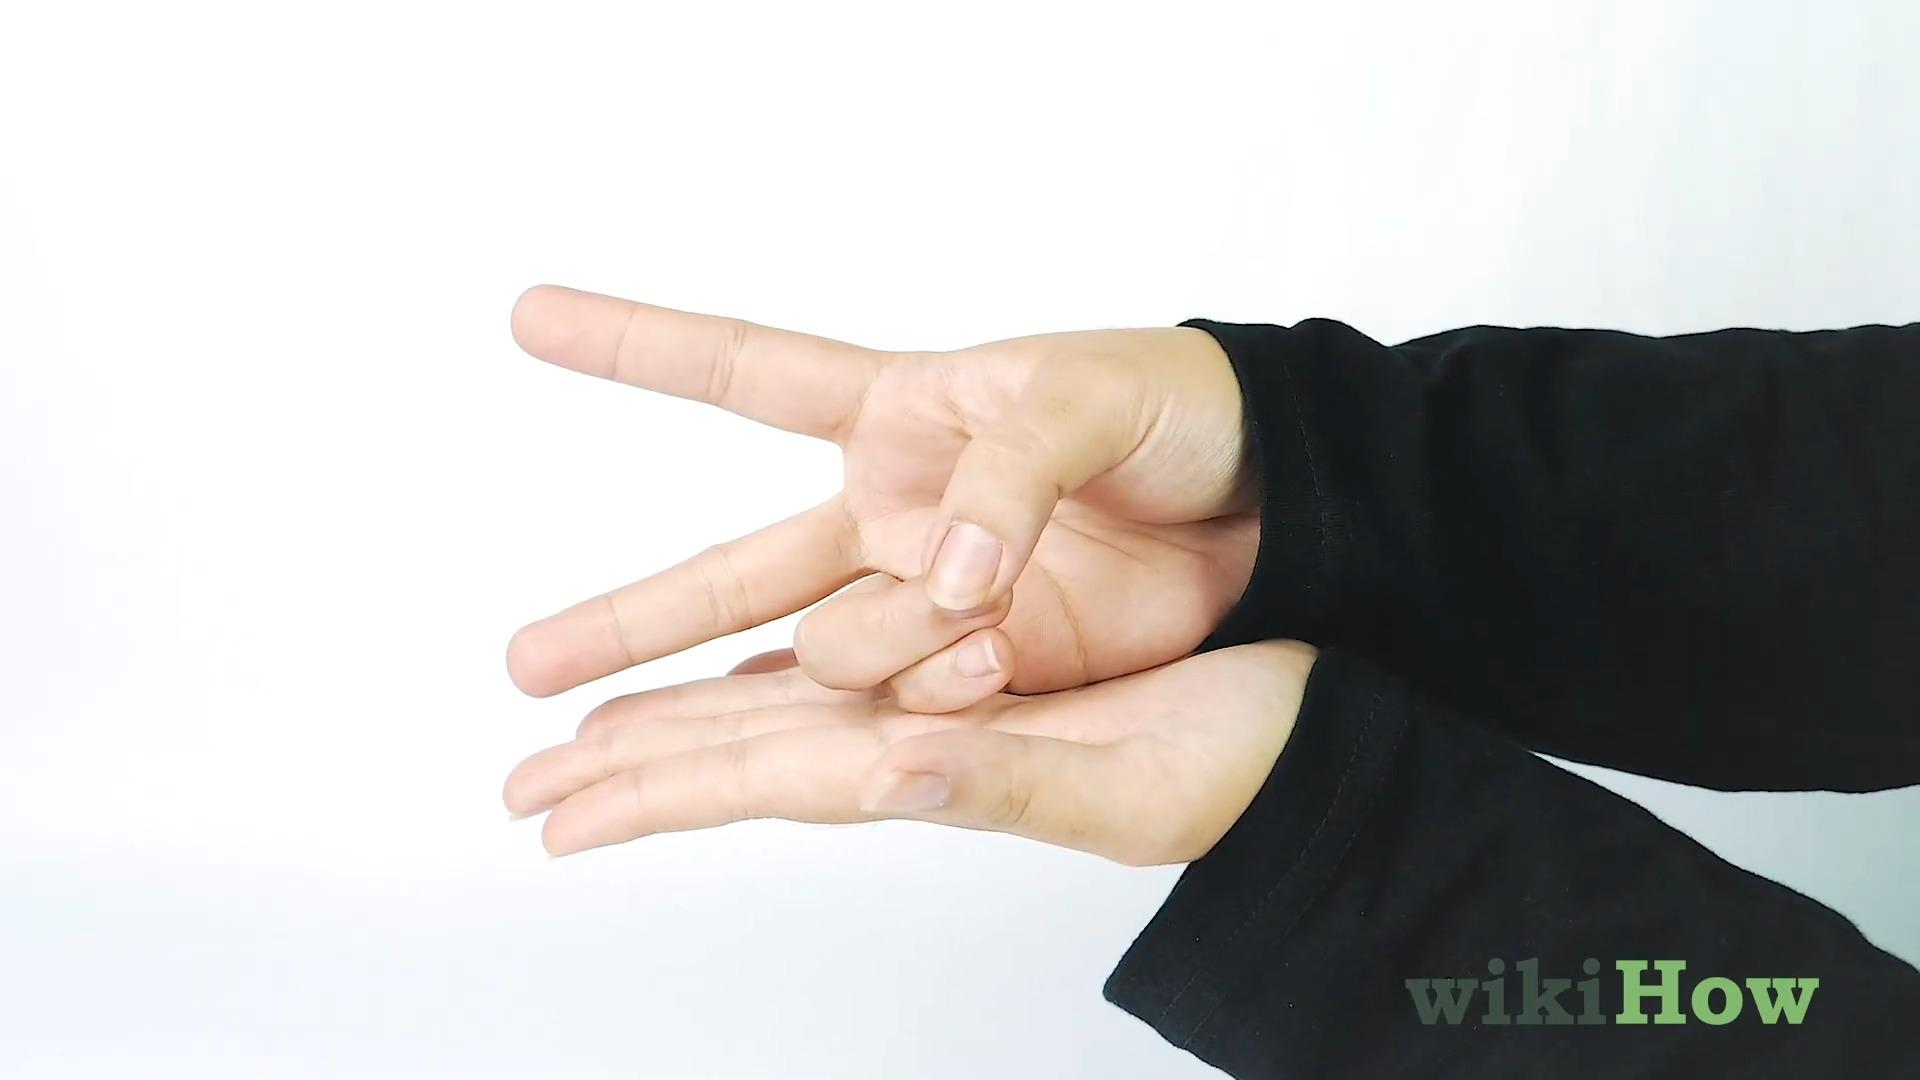Scissors: (502, 282, 1266, 717)
